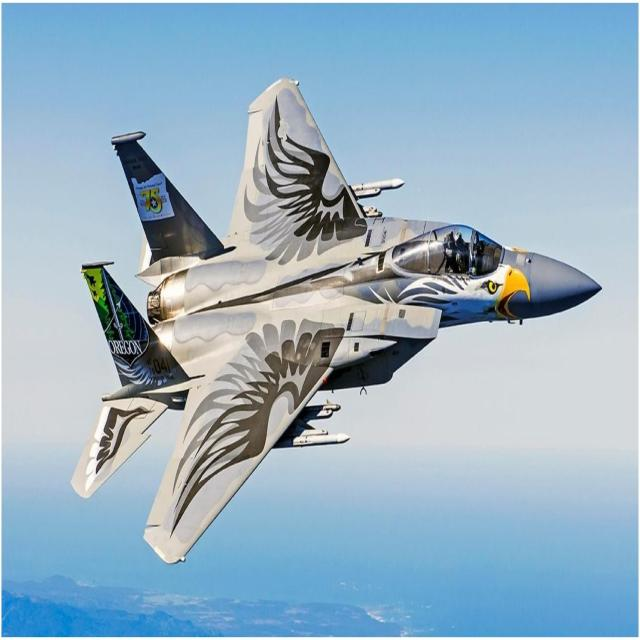MIL_Plane: (70, 78, 601, 566)
